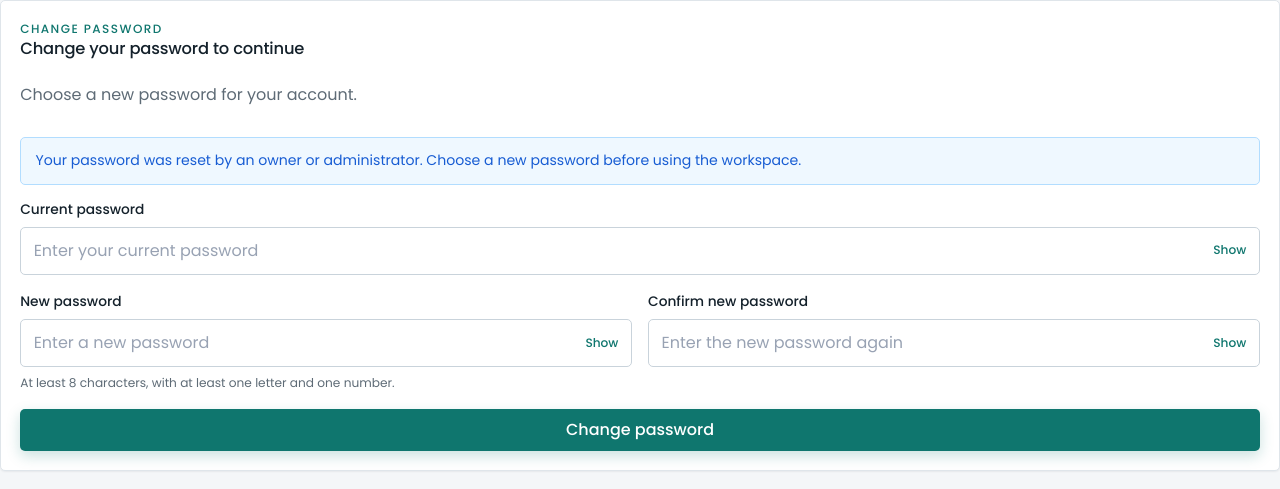
Test: ChangePasswordForm › rejects a new password that matches the current one
Step 1. Type "Password1" into the password field labelled "Current password" → (640, 251), box [20, 227, 1260, 275]
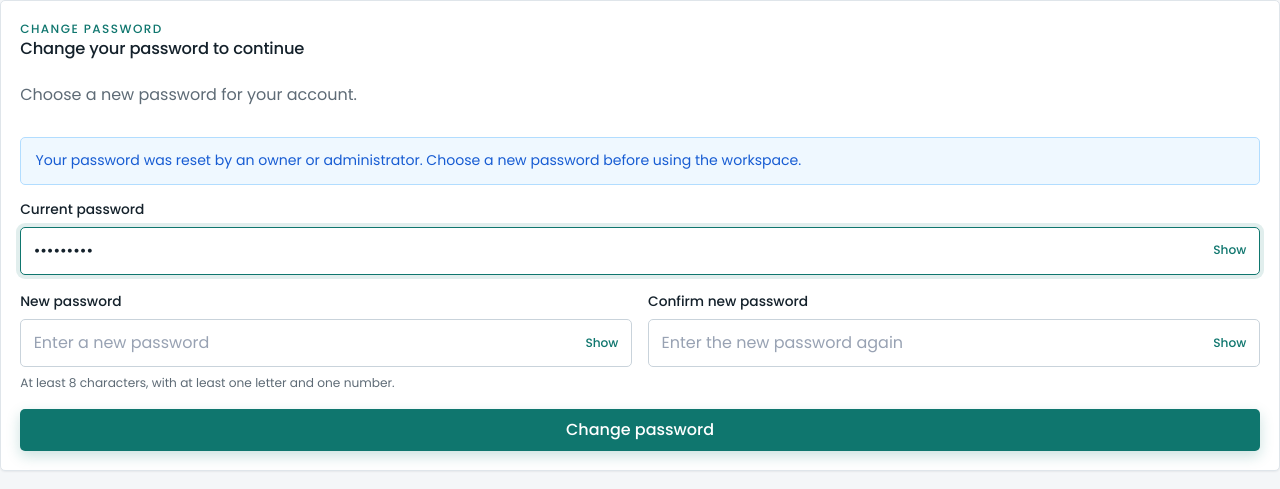
Step 2. Type "Password1" into the password field labelled "New password" → (326, 343), box [20, 319, 632, 367]
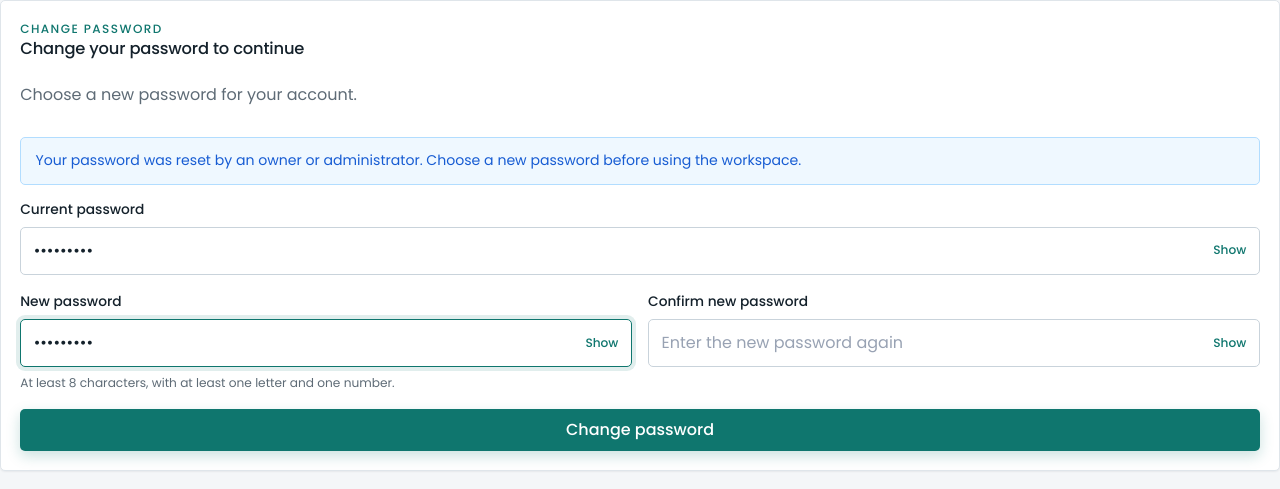
Step 3. Type "Password1" into the password field labelled "Confirm new password" → (954, 343), box [648, 319, 1260, 367]
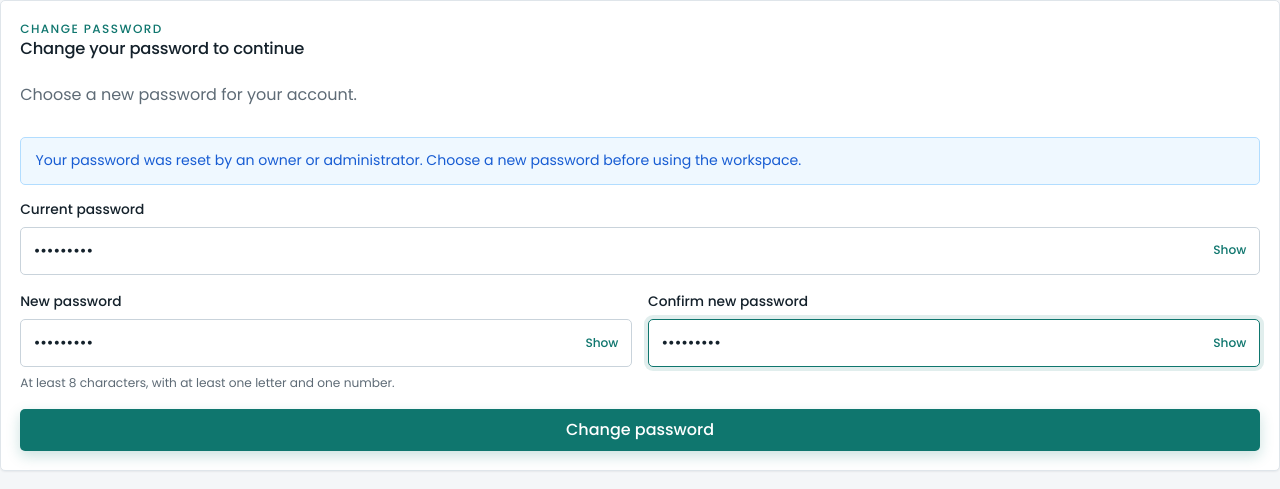
Step 4. Click the button "Change password" → (640, 430), box [20, 409, 1260, 451]
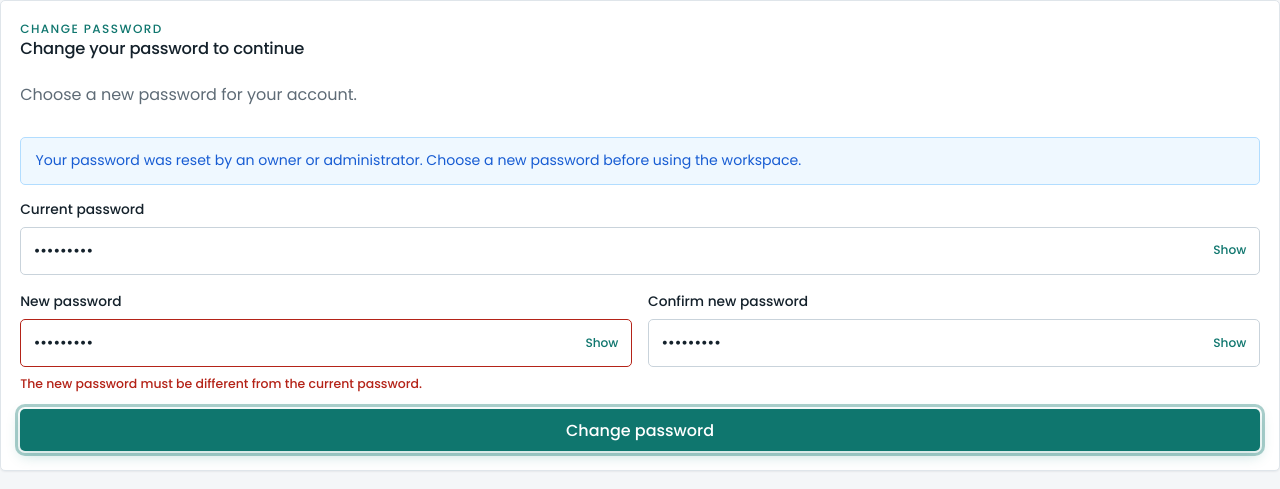
Result: the text "The new password must be different from the current password." is shown at [20, 375, 422, 392]
